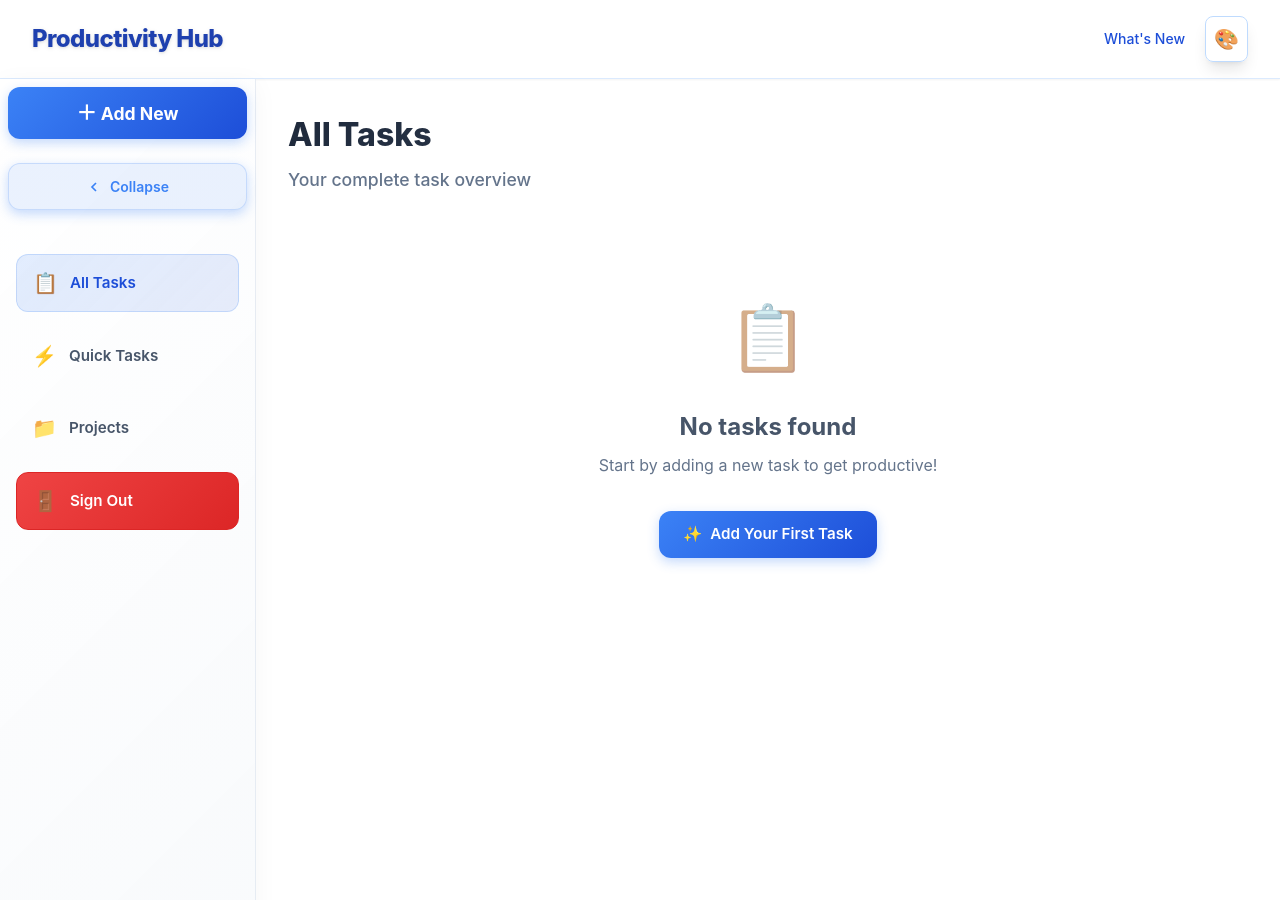
Scenario: MainManagementWindow - Project Form & Management › Project Management › handles project deletion confirmation
Expected: the element that starts with "All Tasks" is shown, top-left (288, 111), bottom-right (1248, 558)
Step 1. Click the button "📁 Projects" → x=128, y=428, box top-left (16, 400), bottom-right (239, 456)
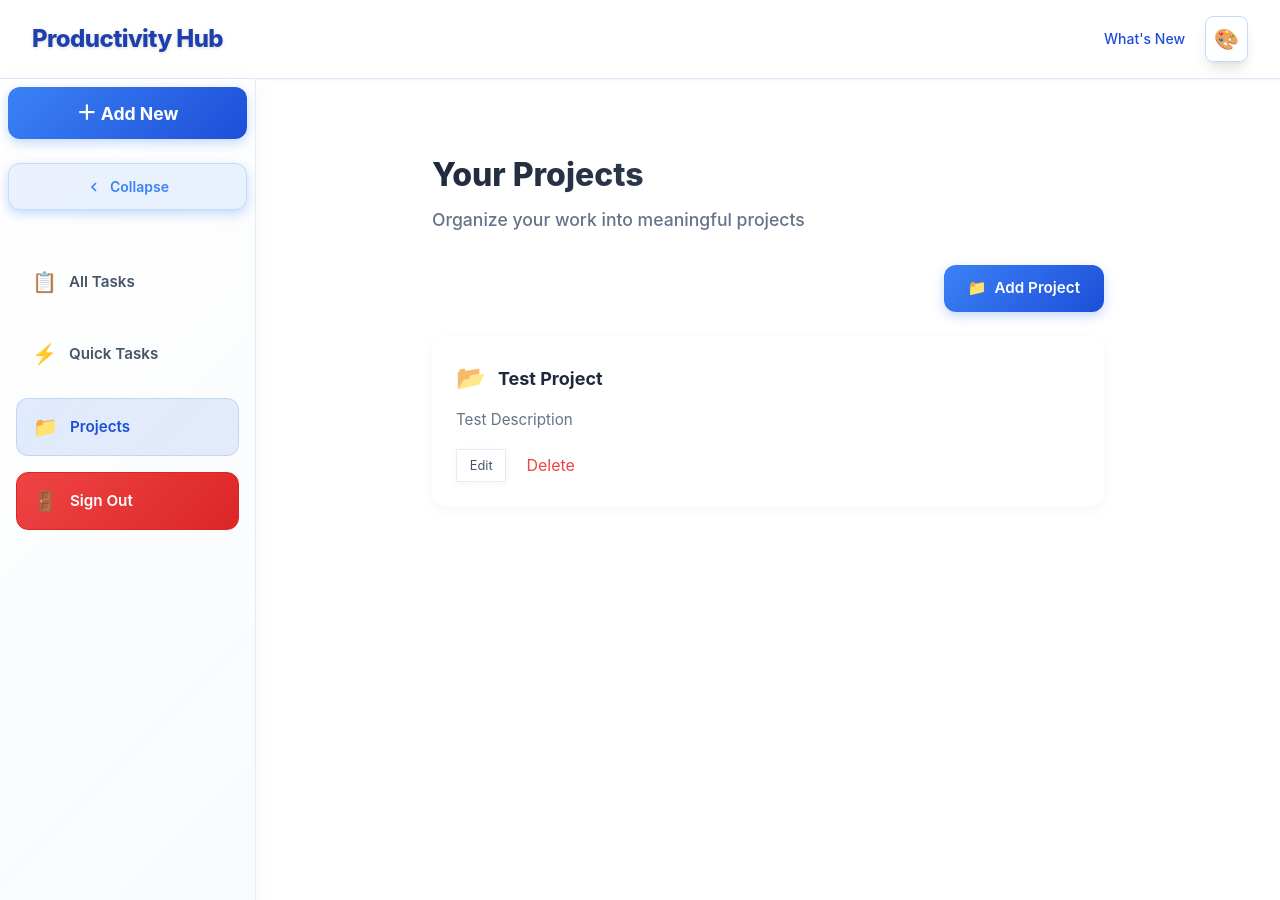
Result: the text "Test Project" is shown at top-left (498, 368), bottom-right (603, 389)
Step 2. Click the button "Delete" → x=551, y=466, box top-left (518, 450), bottom-right (583, 482)
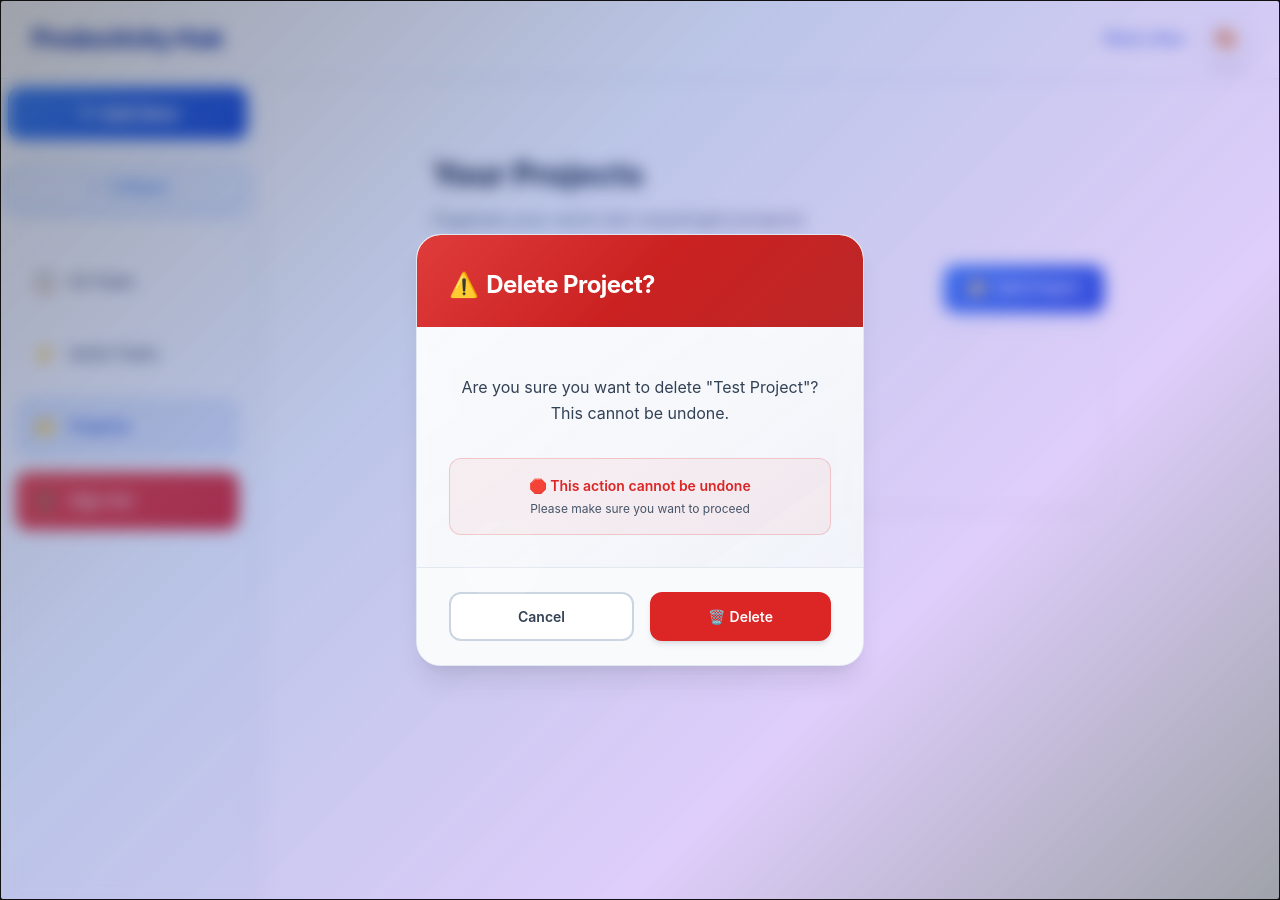
Step 3. Click the button "🗑️ Delete" → x=740, y=617, box top-left (650, 592), bottom-right (831, 641)
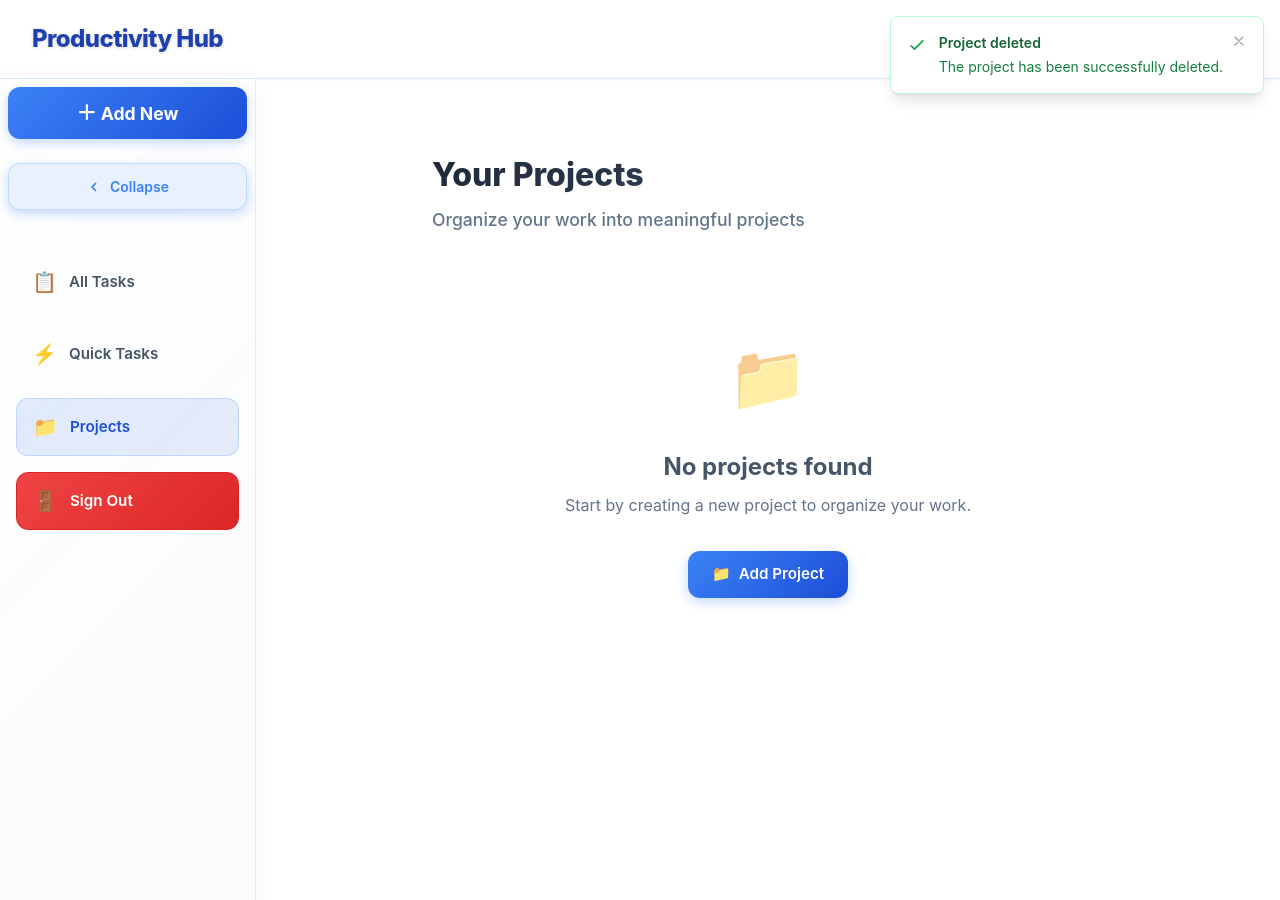
Result: the button "Test Project" is gone
